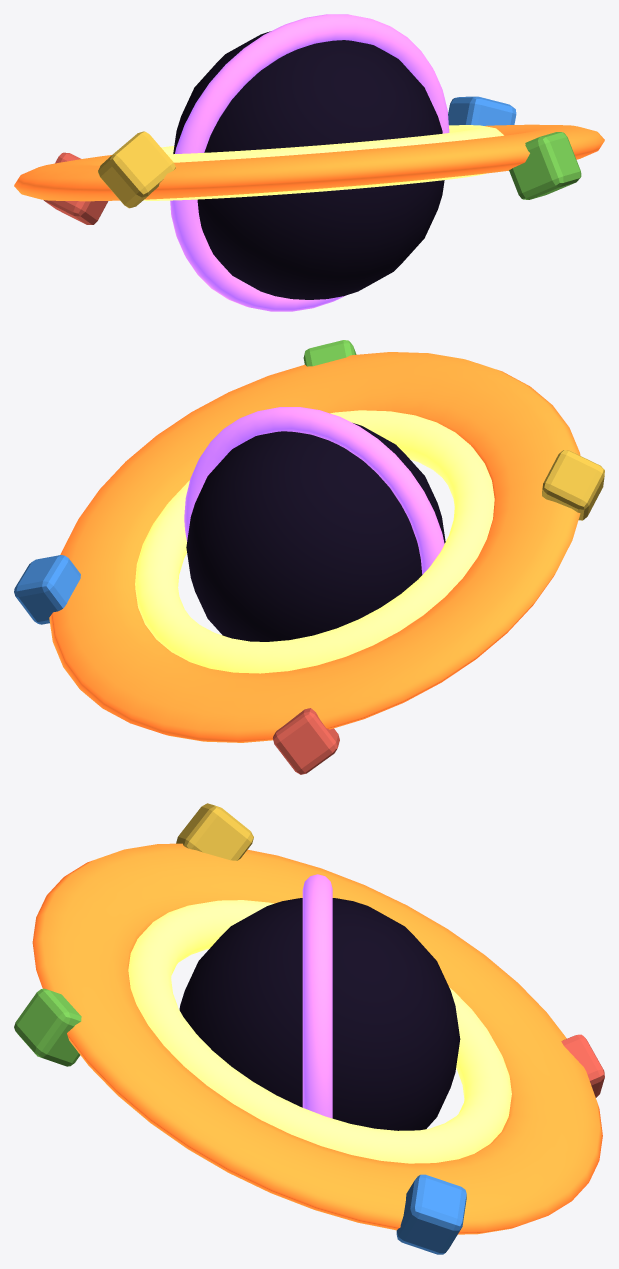
File: black_hole.glb
3 views of the same model, one above another, from view 1: azimuth 30°, elevation 25°; view 2: azimuth 150°, elevation 25°; view 3: azimuth 270°, elevation 25° (orthographic). The views are drawn at different scales.
Visible parts, largest first — view 1: Core, Accretion outer, Horizon ring, Accretion inner, Debris 2, Debris 3, Debris 0, Debris 1; view 2: Accretion outer, Core, Accretion inner, Horizon ring, Debris 0, Debris 2, Debris 1, Debris 3; view 3: Accretion outer, Core, Accretion inner, Horizon ring, Debris 0, Debris 3, Debris 2, Debris 1.
Part boxes in pixels (left/top/right/bottom): Core: left=173, top=31, right=444, bottom=299; Accretion outer: left=14, top=124, right=604, bottom=201; Horizon ring: left=170, top=14, right=449, bottom=311; Accretion inner: left=143, top=125, right=503, bottom=200; Debris 2: left=98, top=131, right=175, bottom=208; Debris 3: left=509, top=132, right=581, bottom=199; Debris 0: left=448, top=96, right=516, bottom=125; Debris 1: left=43, top=152, right=108, bottom=224; Accretion outer: left=49, top=352, right=580, bottom=742; Core: left=186, top=423, right=445, bottom=641; Accretion inner: left=135, top=410, right=494, bottom=673; Horizon ring: left=184, top=407, right=444, bottom=574; Debris 0: left=14, top=555, right=80, bottom=624; Debris 2: left=542, top=450, right=604, bottom=520; Debris 1: left=273, top=708, right=339, bottom=774; Debris 3: left=303, top=340, right=356, bottom=366; Accretion outer: left=32, top=843, right=602, bottom=1234; Core: left=179, top=898, right=460, bottom=1130; Accretion inner: left=128, top=900, right=511, bottom=1163; Horizon ring: left=302, top=874, right=332, bottom=1118; Debris 0: left=396, top=1174, right=466, bottom=1254; Debris 3: left=14, top=988, right=81, bottom=1066; Debris 2: left=176, top=803, right=253, bottom=860; Debris 1: left=561, top=1034, right=604, bottom=1097.
Size of the model in its own units: 0.812 by 0.44 by 0.7878.
